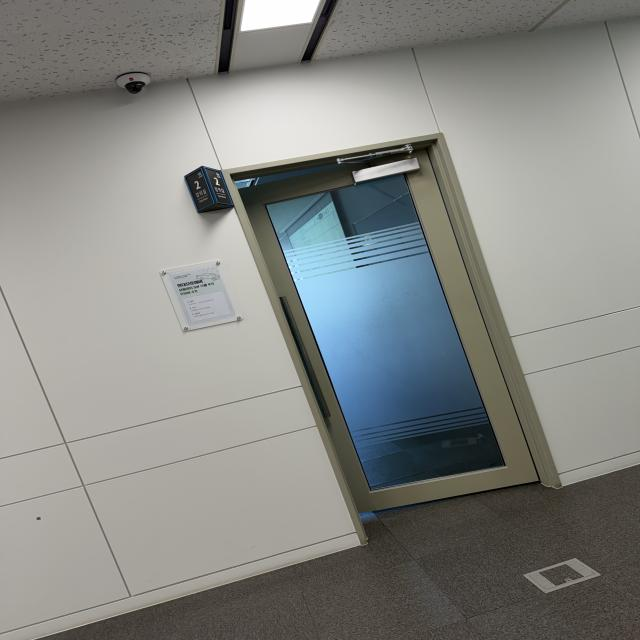room2: (185, 168, 220, 212)
